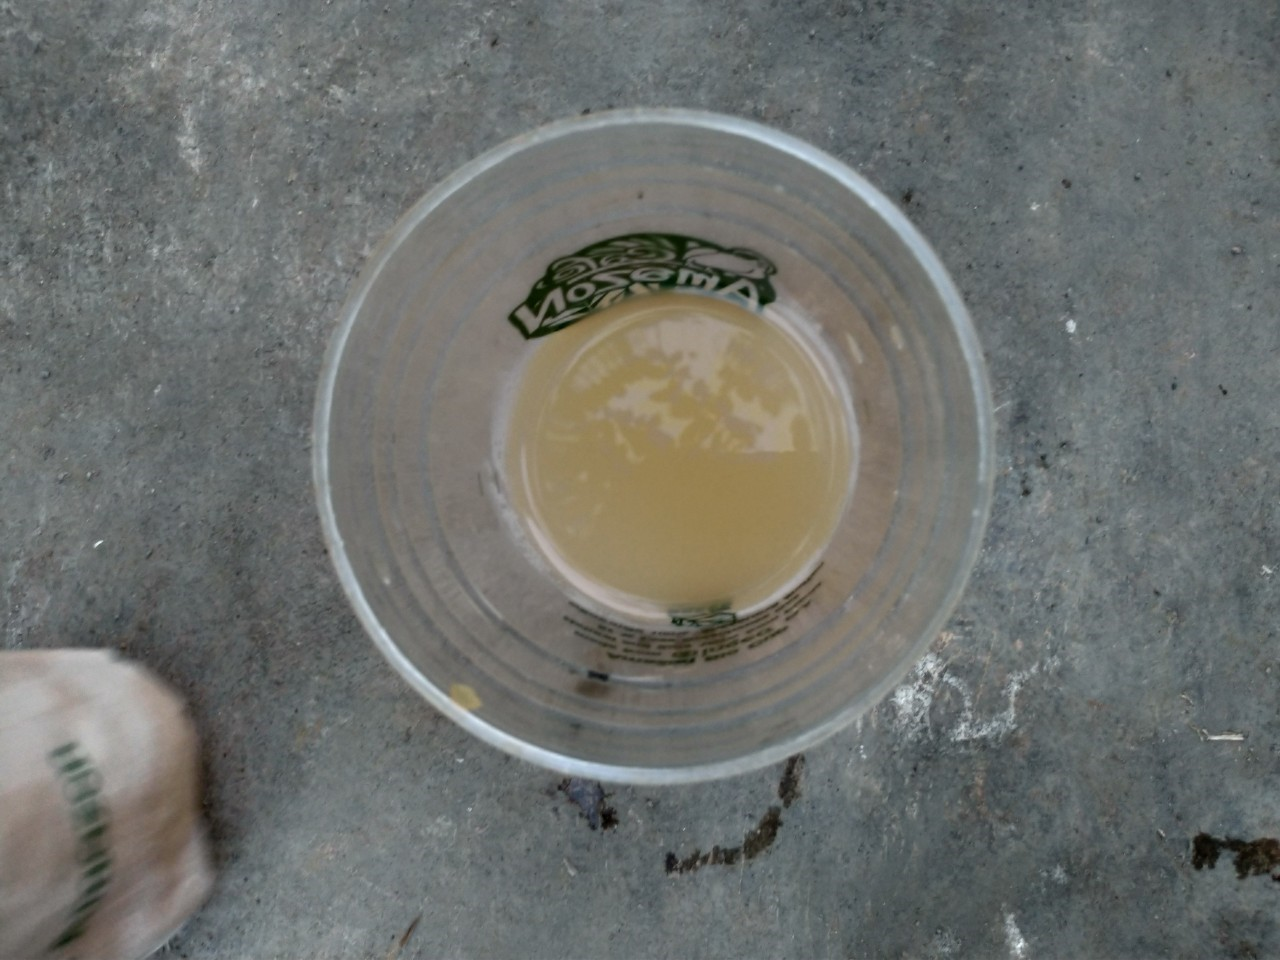PlasticCup: (311, 100, 1004, 784)
